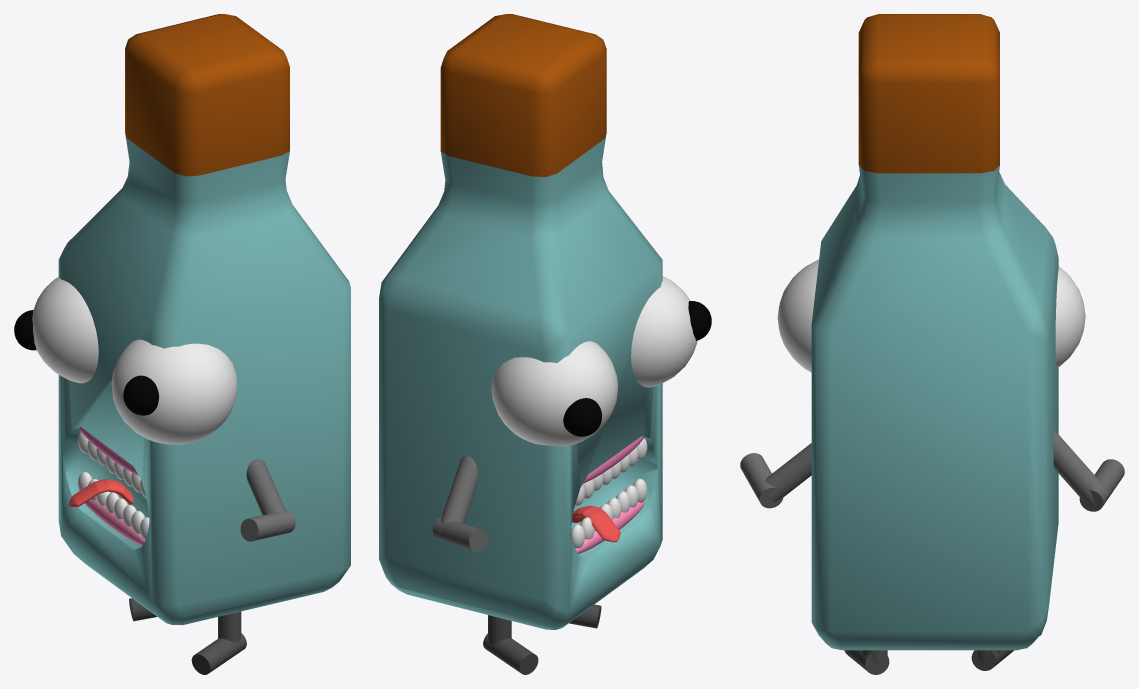
Rendered from Bootle.fbx.
3 renders of one model, left to right at view 1: azimuth 30°, elevation 25°; view 2: azimuth 150°, elevation 25°; view 3: azimuth 270°, elevation 25°, orthographic. The views are drawn at different scales.
Visible parts, largest first — view 1: Cube, Sphere.001, Sphere, Cylinder.008, Cylinder.005, Cylinder.003, Sphere.020, Cylinder.009, Sphere.003, Cylinder, Sphere.021, Sphere.002; view 2: Cube, Sphere, Sphere.001, Cylinder.007, Cylinder.006, Sphere.021, Cylinder.002, Cylinder.009, Sphere.020, Sphere.003, Cylinder.001, Sphere.002; view 3: Cube, Sphere.001, Sphere, Cylinder.007, Cylinder.008, Cylinder.005, Cylinder.006.
Part boxes in pixels (x1,y1,x2,y2): Cube: (58, 14, 350, 625); Sphere.001: (111, 339, 237, 444); Sphere: (32, 277, 98, 383); Cylinder.008: (246, 458, 285, 515); Cylinder.005: (240, 510, 295, 541); Cylinder.003: (191, 633, 246, 674); Sphere.020: (123, 375, 159, 415); Cylinder.009: (69, 479, 133, 506); Sphere.003: (84, 499, 144, 545); Cylinder: (218, 611, 241, 642); Sphere.021: (14, 310, 36, 350); Sphere.002: (78, 427, 138, 475); Cube: (379, 14, 662, 629); Sphere: (491, 341, 617, 446); Sphere.001: (631, 276, 697, 387); Cylinder.007: (439, 455, 478, 530); Cylinder.006: (432, 517, 487, 551); Sphere.021: (563, 398, 601, 436); Cylinder.002: (483, 633, 538, 674); Cylinder.009: (572, 505, 620, 542); Sphere.020: (688, 301, 711, 340); Sphere.003: (575, 501, 644, 553); Cylinder.001: (488, 615, 511, 651); Sphere.002: (583, 436, 643, 483); Cube: (811, 14, 1058, 650); Sphere.001: (777, 259, 818, 372); Sphere: (1055, 266, 1085, 368); Cylinder.007: (1053, 430, 1107, 505); Cylinder.008: (765, 443, 811, 502); Cylinder.005: (740, 453, 783, 508); Cylinder.006: (1079, 459, 1124, 511).
Size of the model in its own units: 239 by 596 by 324.
